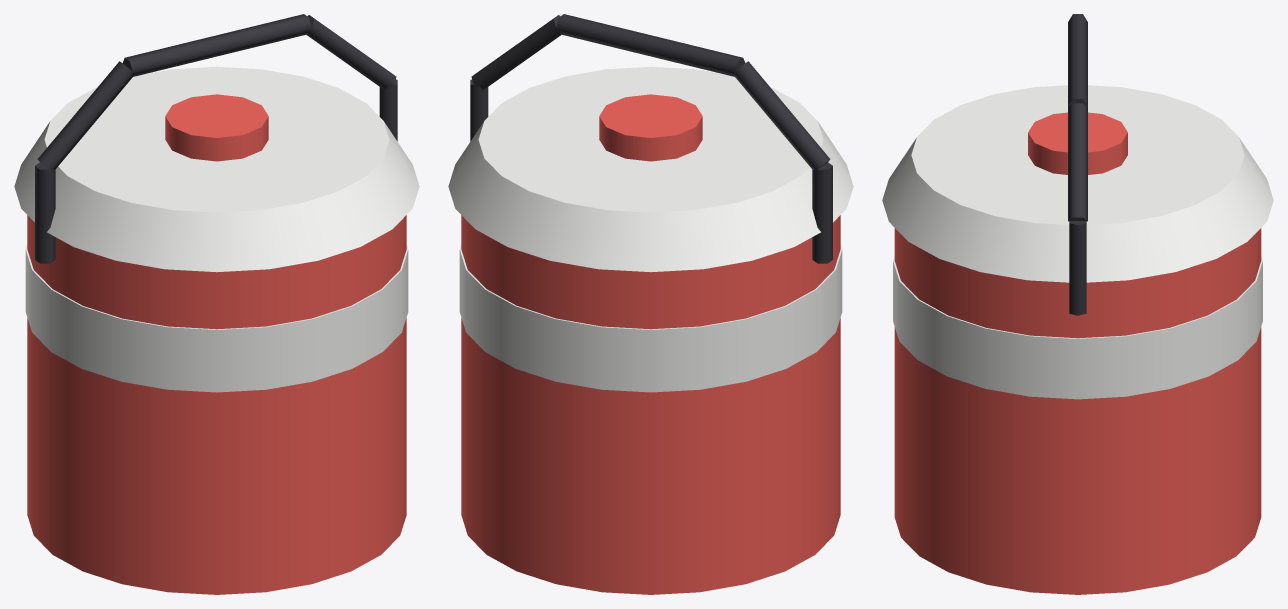
The model's file is SM_IceCooler.fbx.
3 renders of one model, left to right at view 1: azimuth 30°, elevation 25°; view 2: azimuth 150°, elevation 25°; view 3: azimuth 270°, elevation 25°, orthographic. The views are drawn at different scales.
Parts seen in each view (by area): view 1: SM_IceCooler; view 2: SM_IceCooler; view 3: SM_IceCooler.
Part boxes in pixels (bbox=[...]): SM_IceCooler: bbox=[14, 14, 419, 594]; SM_IceCooler: bbox=[448, 14, 853, 594]; SM_IceCooler: bbox=[882, 14, 1273, 594].
Bounding box in the file's own units: 0.4824 × 0.6104 × 0.47.
